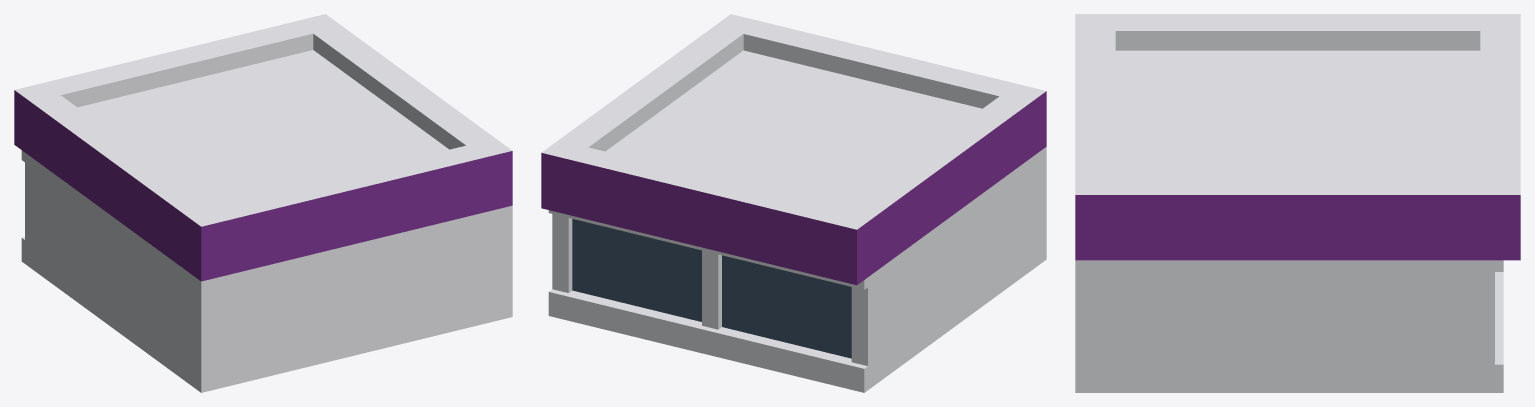
File: garage-office.glb
3 renders of one model, left to right at view 1: azimuth 30°, elevation 25°; view 2: azimuth 150°, elevation 25°; view 3: azimuth 270°, elevation 25°, orthographic. The views are drawn at different scales.
Visible parts, largest first — view 1: pitsOffice; view 2: pitsOffice; view 3: pitsOffice.
Part boxes in pixels (bbox=[...]): pitsOffice: bbox=[14, 14, 512, 392]; pitsOffice: bbox=[541, 14, 1046, 392]; pitsOffice: bbox=[1075, 14, 1520, 392].
Size of the model in its own units: 1 by 0.51 by 1.04.
